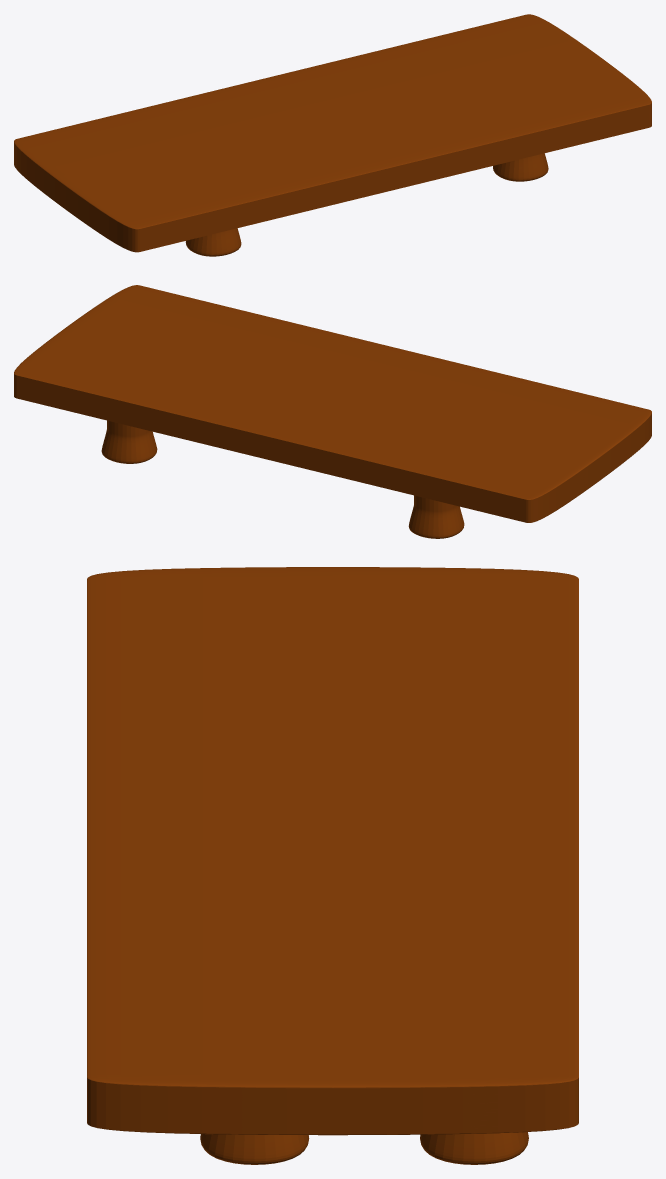
The model's file is скамейка.fbx.
3 views of the same model, one above another, from view 1: azimuth 30°, elevation 25°; view 2: azimuth 150°, elevation 25°; view 3: azimuth 270°, elevation 25° (orthographic). The views are drawn at different scales.
Visible parts, largest first — view 1: Subdivision_Surface_5; view 2: Subdivision_Surface_5; view 3: Subdivision_Surface_5.
Part boxes in pixels (x1,y1,x2,y2): Subdivision_Surface_5: (14, 14, 651, 256); Subdivision_Surface_5: (14, 285, 651, 538); Subdivision_Surface_5: (87, 567, 578, 1164).
Size of the model in its own units: 2578 by 363 by 1030.
